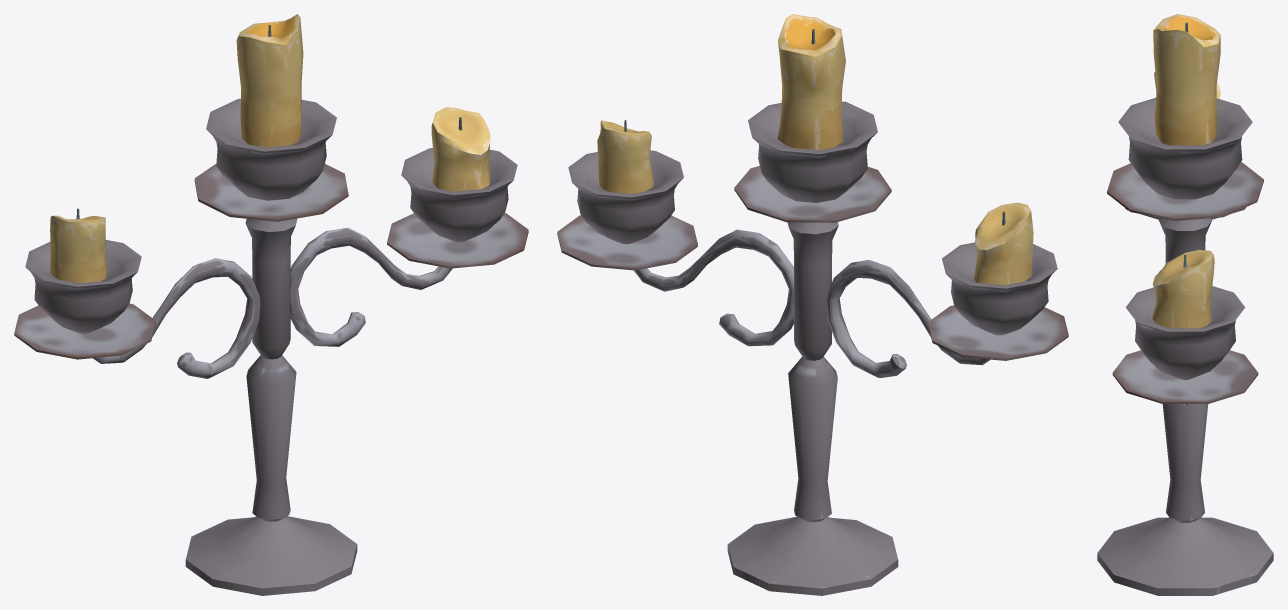
File: CandleStick_Triple.gltf
3 renders of one model, left to right at view 1: azimuth 30°, elevation 25°; view 2: azimuth 150°, elevation 25°; view 3: azimuth 270°, elevation 25°, orthographic.
Visible parts, largest first — view 1: CandleStick_Triple; view 2: CandleStick_Triple; view 3: CandleStick_Triple.
Boxes of the visible parts, x1,y1,x2,y2 form: CandleStick_Triple: (14, 14, 528, 595); CandleStick_Triple: (557, 14, 1068, 595); CandleStick_Triple: (1097, 14, 1273, 595).
Size of the model in its own units: 0.4423 by 0.4633 by 0.1363.
2 materials, 2 textured.
